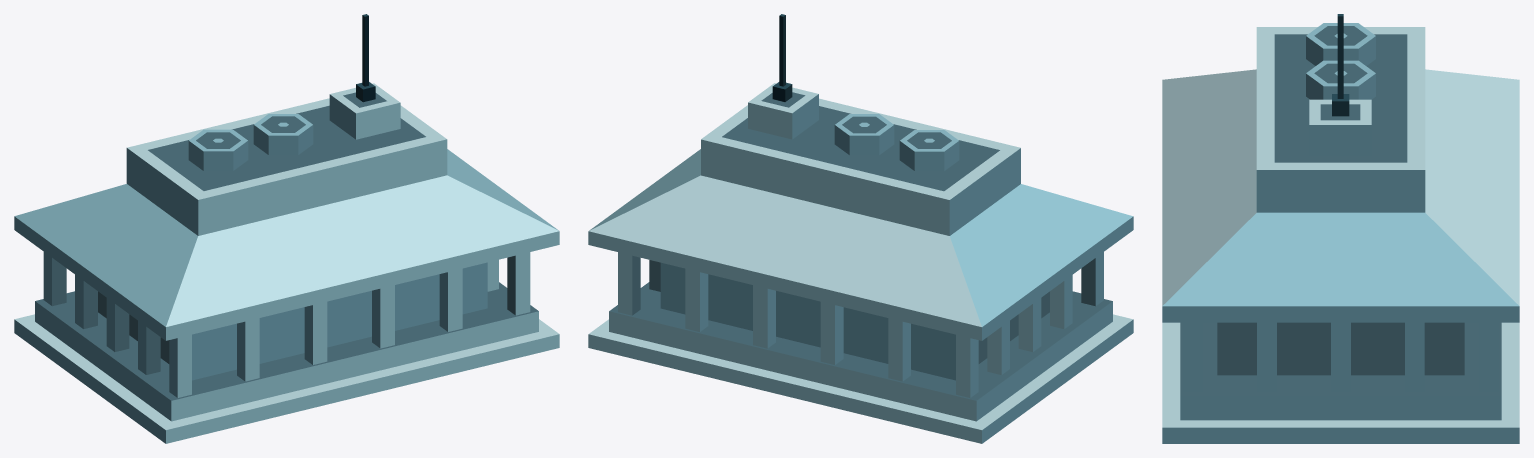
Rendered from TB_CITY_Skysc_E_Top_Blue.FBX.
The picture shows the model from 3 angles, left to right: view 1: azimuth 30°, elevation 25°; view 2: azimuth 150°, elevation 25°; view 3: azimuth 270°, elevation 25°; orthographic projection. The views are drawn at different scales.
Visible parts, largest first — view 1: TB_CITY_Skysc_E_Top_Blue; view 2: TB_CITY_Skysc_E_Top_Blue; view 3: TB_CITY_Skysc_E_Top_Blue.
Boxes of the visible parts, left/top/right/bottom form: TB_CITY_Skysc_E_Top_Blue: left=14, top=14, right=559, bottom=443; TB_CITY_Skysc_E_Top_Blue: left=588, top=14, right=1133, bottom=443; TB_CITY_Skysc_E_Top_Blue: left=1162, top=14, right=1519, bottom=443.
Size of the model in its own units: 30 by 22.27 by 20.
